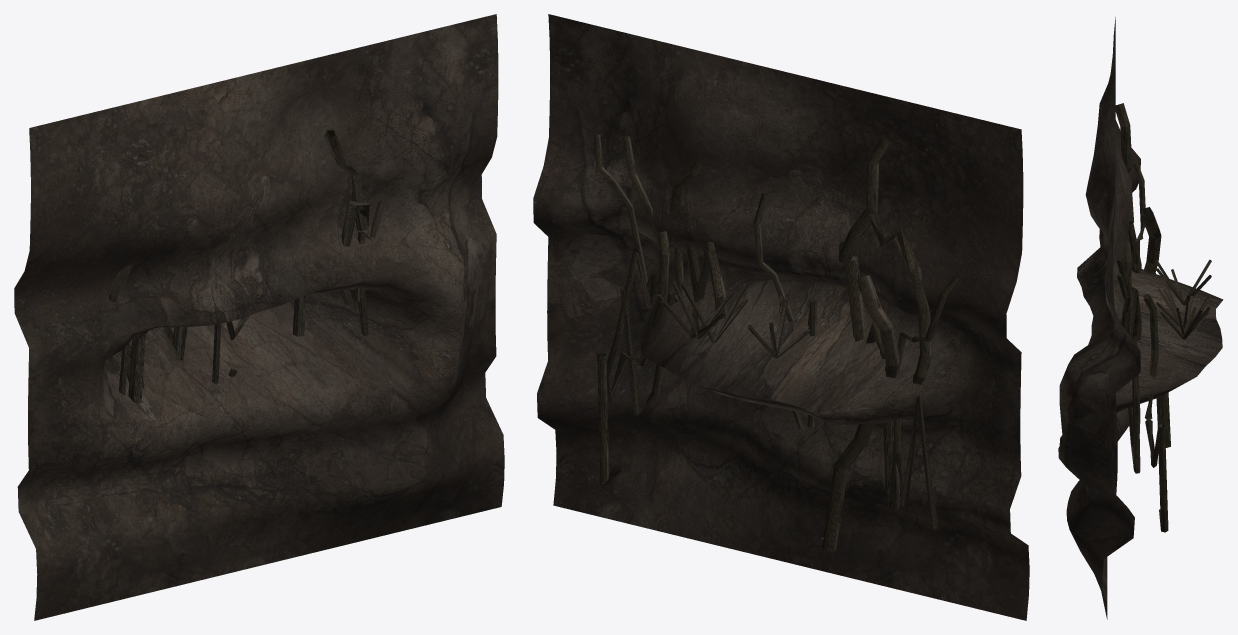
The model's file is cliff_wall_4m_ledge_roots.glb.
3 renders of one model, left to right at view 1: azimuth 30°, elevation 25°; view 2: azimuth 150°, elevation 25°; view 3: azimuth 270°, elevation 25°, orthographic. The views are drawn at different scales.
Visible parts, largest first — view 1: cliff_wall_4m_ledge_roots; view 2: cliff_wall_4m_ledge_roots; view 3: cliff_wall_4m_ledge_roots.
Boxes of the visible parts, box(x1,y1,x2,y2) form: cliff_wall_4m_ledge_roots: box(14, 14, 504, 620); cliff_wall_4m_ledge_roots: box(533, 14, 1029, 620); cliff_wall_4m_ledge_roots: box(1058, 17, 1223, 619).
Size of the model in its own units: 4 by 4 by 1.45.
Materials: 2 (2 with a texture image).
